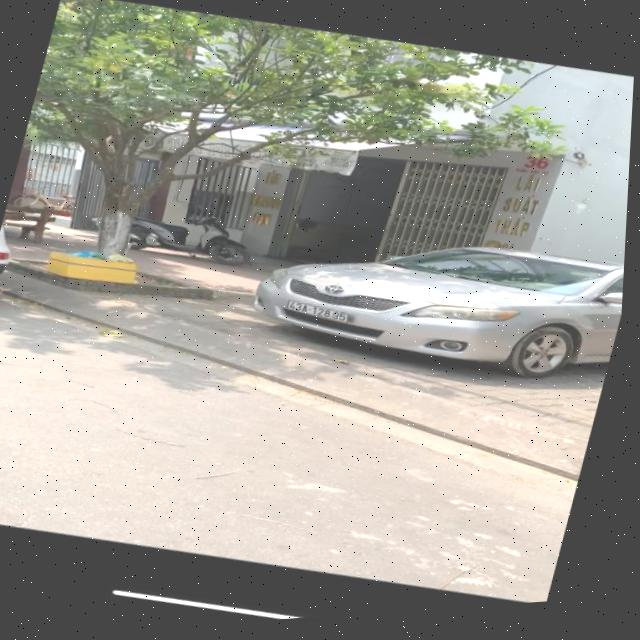car: (240, 186, 628, 423)
plate: (281, 288, 362, 337)
